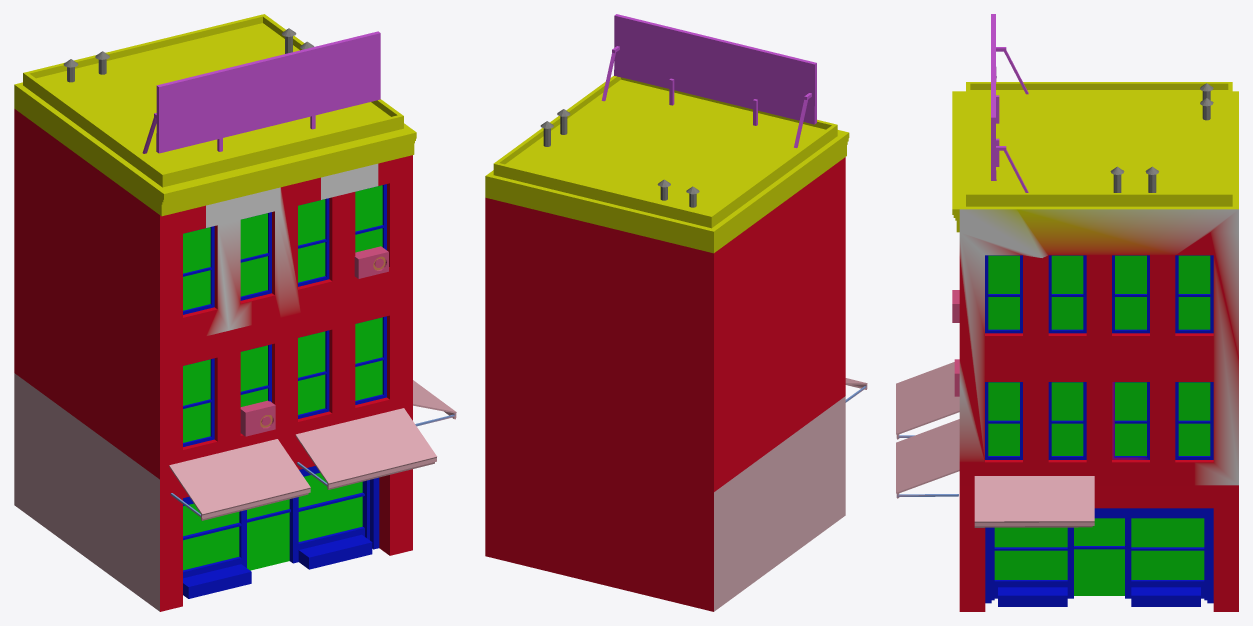
Rendered from Building3.fbx.
3 renders of one model, left to right at view 1: azimuth 30°, elevation 25°; view 2: azimuth 150°, elevation 25°; view 3: azimuth 270°, elevation 25°, orthographic. The views are drawn at different scales.
Parts seen in each view (by area): view 1: Building 3; view 2: Building 3; view 3: Building 3.
Boxes of the visible parts, x1=… form: Building 3: x1=14, y1=14, x2=456, y2=611; Building 3: x1=485, y1=14, x2=867, y2=611; Building 3: x1=896, y1=14, x2=1238, y2=611.
Size of the model in its own units: 96398 by 153962 by 98214.
